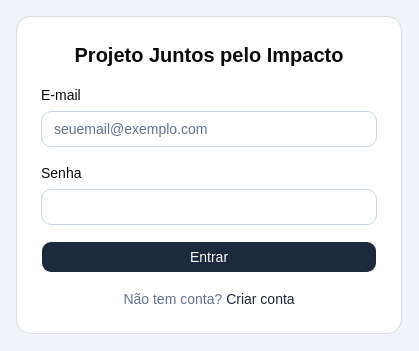
Test: SignInPage › disables button during loading
Type "i@b.com" into the field labelled "E-mail". click: {"x": 209, "y": 129}
box: x1=41 y1=111 x2=377 y2=147
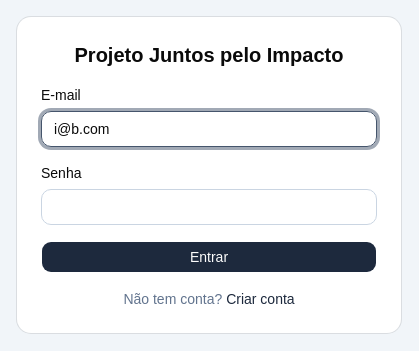
Type "senha123" into the password field labelled "Senha". click: {"x": 209, "y": 207}
box: x1=41 y1=189 x2=377 y2=225
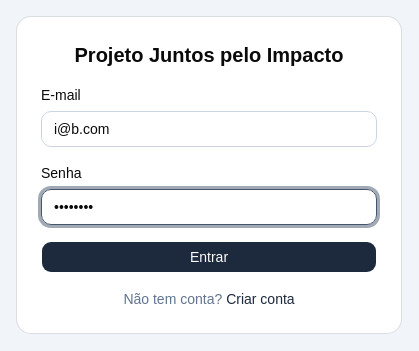
Click the button "Entrar". click: {"x": 209, "y": 257}
box: x1=41 y1=241 x2=377 y2=273
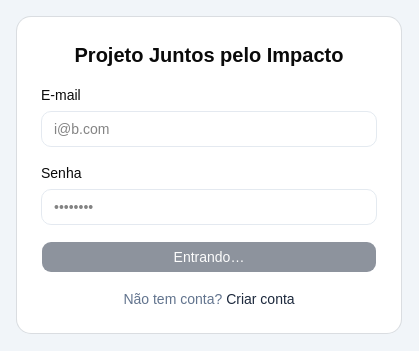
Expected: the button "Entrando…" is disabled, x1=41 y1=241 x2=377 y2=273
